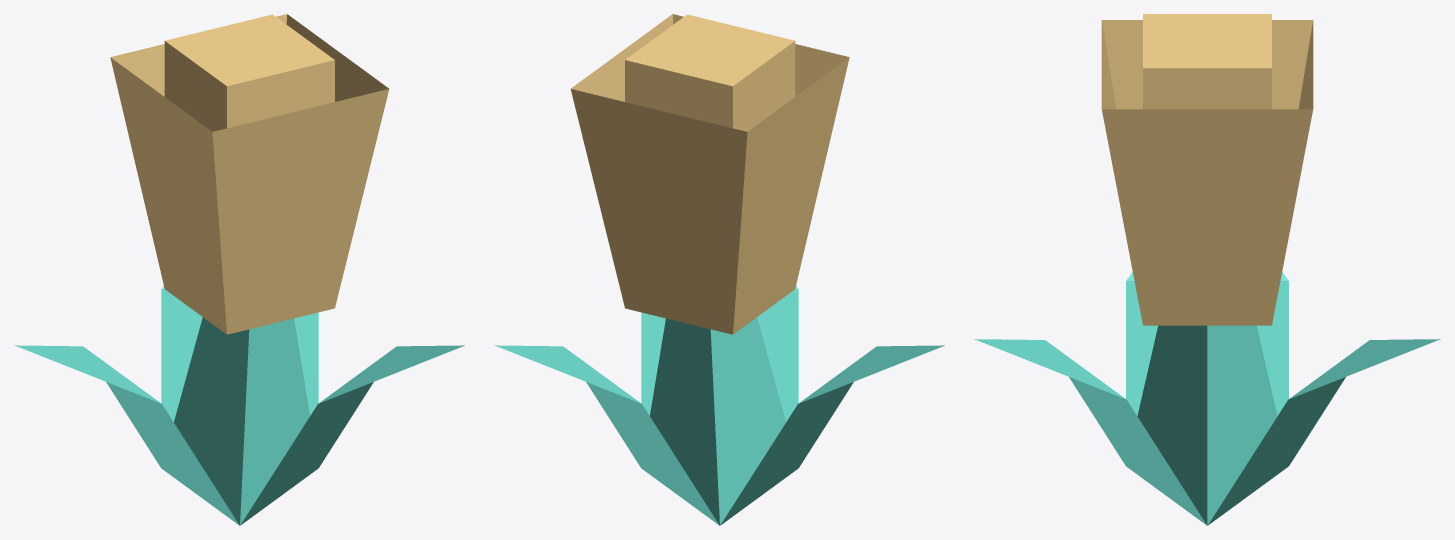
Rendered from flower_yellowA.glb.
The picture shows the model from 3 angles, left to right: view 1: azimuth 30°, elevation 25°; view 2: azimuth 150°, elevation 25°; view 3: azimuth 270°, elevation 25°; orthographic projection. The views are drawn at different scales.
Parts seen in each view (by area): view 1: flower_yellowA; view 2: flower_yellowA; view 3: flower_yellowA.
Part boxes in pixels (x1,y1,x2,y2): flower_yellowA: (15, 14, 464, 525); flower_yellowA: (495, 14, 944, 525); flower_yellowA: (974, 14, 1440, 525).
Size of the model in its own units: 0.1591 by 0.1925 by 0.1811.
Materials: 1 (1 with a texture image).
